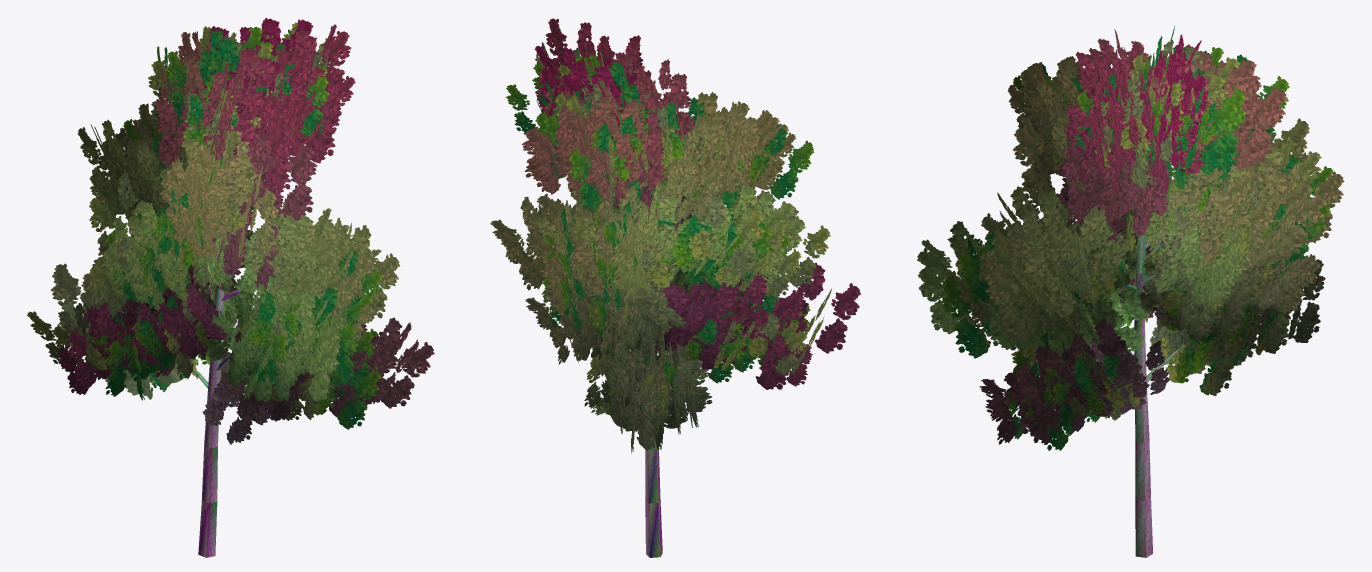
File: nat_birch_c_LOD1.glb
3 views of the same model, side by side, from view 1: azimuth 30°, elevation 25°; view 2: azimuth 150°, elevation 25°; view 3: azimuth 270°, elevation 25° (orthographic). The views are drawn at different scales.
Visible parts, largest first — view 1: nat_birch_c_LOD1; view 2: nat_birch_c_LOD1; view 3: nat_birch_c_LOD1.
Part boxes in pixels (left/top/right/bottom): nat_birch_c_LOD1: left=27, top=17, right=434, bottom=557; nat_birch_c_LOD1: left=490, top=18, right=860, bottom=557; nat_birch_c_LOD1: left=917, top=26, right=1344, bottom=557.
Size of the model in its own units: 7.88 by 10.71 by 8.
2 materials, 2 textured.
